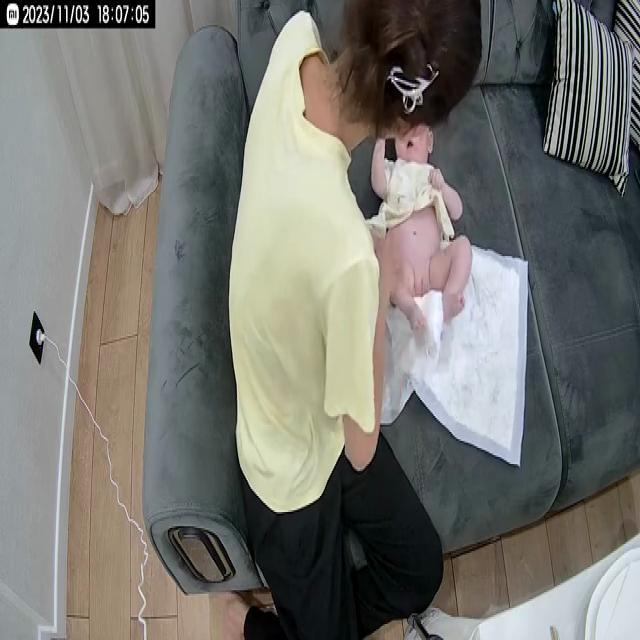baby: (368, 116, 476, 342)
